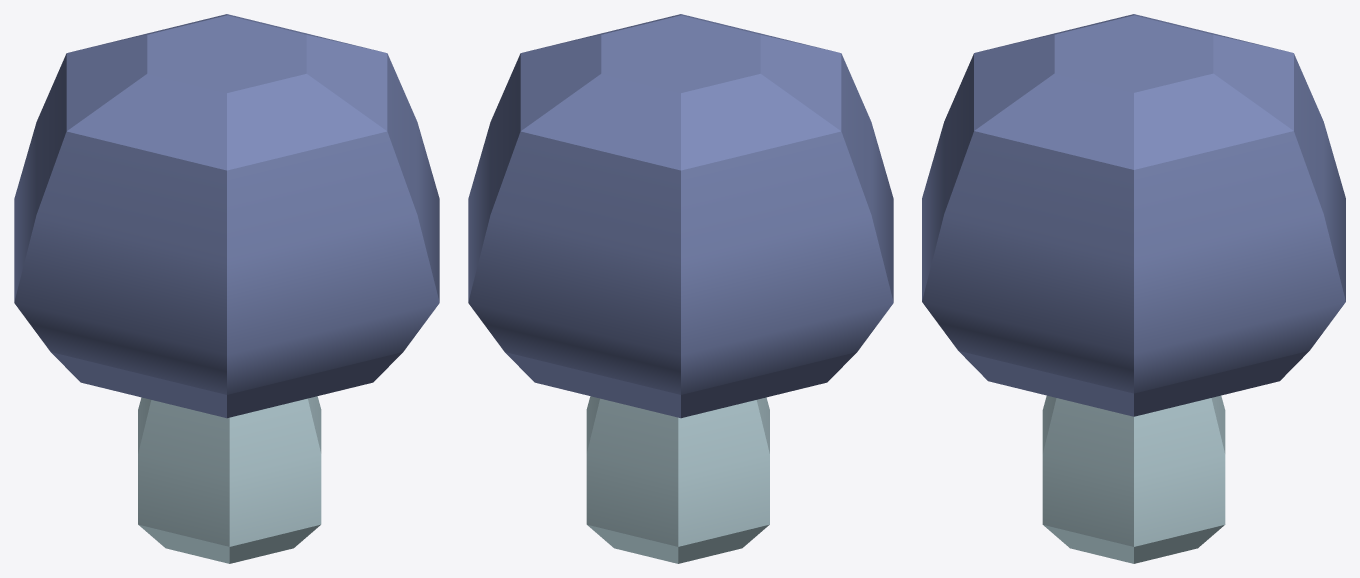
File: mushroom3.fbx
3 renders of one model, left to right at view 1: azimuth 30°, elevation 25°; view 2: azimuth 150°, elevation 25°; view 3: azimuth 270°, elevation 25°, orthographic.
Parts seen in each view (by area): view 1: pCylinder30, pCylinder29; view 2: pCylinder30, pCylinder29; view 3: pCylinder30, pCylinder29.
Part boxes in pixels (x1=…): pCylinder30: x1=14, y1=14, x2=439, y2=418; pCylinder29: x1=138, y1=396, x2=321, y2=563; pCylinder30: x1=468, y1=14, x2=893, y2=418; pCylinder29: x1=586, y1=396, x2=769, y2=563; pCylinder30: x1=922, y1=14, x2=1345, y2=416; pCylinder29: x1=1042, y1=395, x2=1225, y2=563.
Size of the model in its own units: 1.69 by 1.82 by 1.46.
